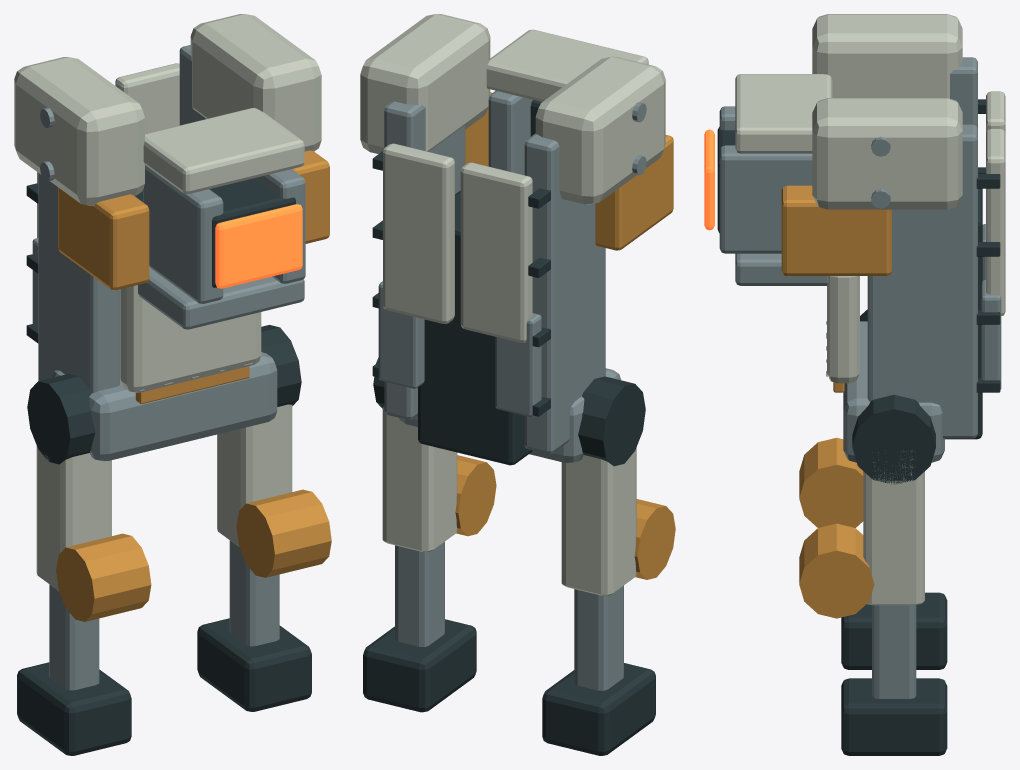
Rendered from build72-implementation-sentinel.glb.
3 views of the same model, side by side, from view 1: azimuth 30°, elevation 25°; view 2: azimuth 150°, elevation 25°; view 3: azimuth 270°, elevation 25° (orthographic). The views are drawn at different scales.
Visible parts, largest first — view 1: LoadFrame_Service ivory enamel, LoadFrame_Exposed bearing steel, LoadFrame_Safety ochre, LoadFrame_Protected graphite recess, ShutterTop, FootRight, FootLeft, UpperLeft, UpperRight, KneeRight, KneeLeft, Optic (+3 smaller); view 2: LoadFrame_Service ivory enamel, LoadFrame_Exposed bearing steel, LoadFrame_Protected graphite recess, UpperLeft, UpperRight, FootLeft, FootRight, LoadFrame_Safety ochre, ShutterTop, LowerLeft, LowerRight, VaneLeft (+3 smaller); view 3: LoadFrame_Service ivory enamel, LoadFrame_Exposed bearing steel, LoadFrame_Protected graphite recess, LoadFrame_Safety ochre, UpperRight, FootRight, ShutterTop, KneeRight, KneeLeft, LowerRight, FootLeft, ShutterBottom (+2 smaller).
Part boxes in pixels (bbox=[...]): LoadFrame_Service ivory enamel: bbox=[14, 14, 321, 392]; LoadFrame_Exposed bearing steel: bbox=[38, 45, 305, 461]; LoadFrame_Safety ochre: bbox=[58, 150, 329, 403]; LoadFrame_Protected graphite recess: bbox=[26, 178, 301, 464]; ShutterTop: bbox=[143, 108, 304, 193]; FootRight: bbox=[197, 618, 311, 711]; FootLeft: bbox=[17, 662, 131, 755]; UpperLeft: bbox=[36, 446, 111, 590]; UpperRight: bbox=[217, 404, 292, 546]; KneeRight: bbox=[236, 489, 331, 577]; KneeLeft: bbox=[56, 533, 151, 621]; Optic: bbox=[215, 204, 302, 288]; LoadFrame_Service ivory enamel: bbox=[360, 14, 665, 342]; LoadFrame_Exposed bearing steel: bbox=[384, 91, 646, 462]; LoadFrame_Protected graphite recess: bbox=[372, 100, 645, 466]; UpperLeft: bbox=[561, 447, 636, 595]; UpperRight: bbox=[382, 407, 457, 552]; FootLeft: bbox=[542, 663, 655, 755]; FootRight: bbox=[363, 619, 476, 712]; LoadFrame_Safety ochre: bbox=[465, 92, 673, 250]; ShutterTop: bbox=[486, 29, 648, 101]; LowerLeft: bbox=[574, 585, 623, 690]; LowerRight: bbox=[395, 542, 444, 646]; VaneLeft: bbox=[495, 313, 541, 417]; LoadFrame_Service ivory enamel: bbox=[812, 14, 1005, 383]; LoadFrame_Exposed bearing steel: bbox=[719, 57, 977, 462]; LoadFrame_Protected graphite recess: bbox=[717, 99, 1000, 484]; LoadFrame_Safety ochre: bbox=[781, 185, 891, 392]; UpperRight: bbox=[863, 450, 924, 605]; FootRight: bbox=[841, 678, 947, 755]; ShutterTop: bbox=[735, 74, 832, 153]; KneeRight: bbox=[799, 523, 874, 618]; KneeLeft: bbox=[799, 437, 863, 527]; LowerRight: bbox=[872, 605, 916, 698]; FootLeft: bbox=[841, 592, 947, 669]; ShutterBottom: bbox=[735, 253, 828, 285].
Size of the model in its own units: 0.644 by 1.59 by 0.6825.
